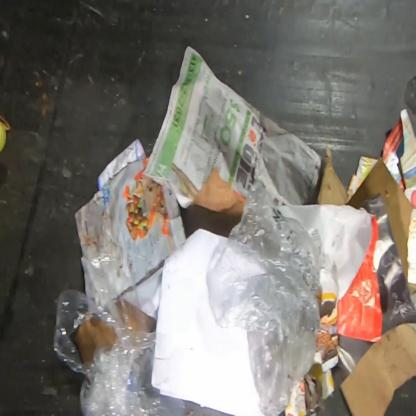cardboard: (348, 155, 415, 295), (340, 321, 415, 415), (180, 170, 245, 240), (316, 145, 349, 207)
soft_plastic: (53, 254, 235, 416), (206, 178, 322, 416)
